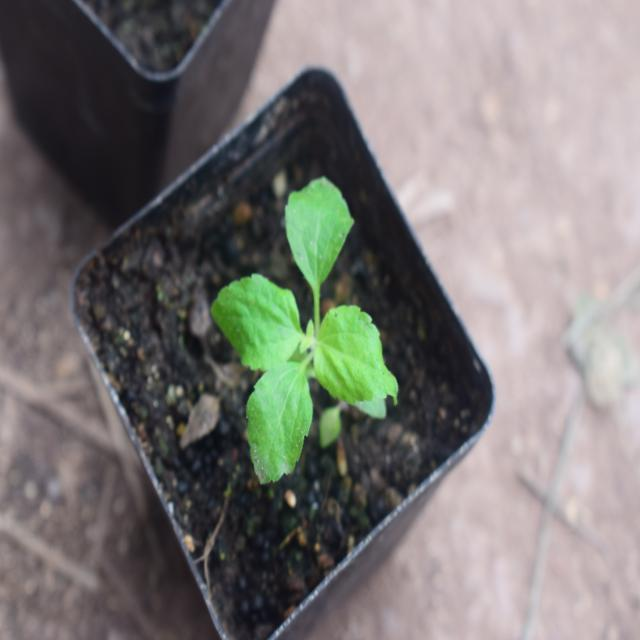billygoat_weed: (207, 163, 391, 481)
